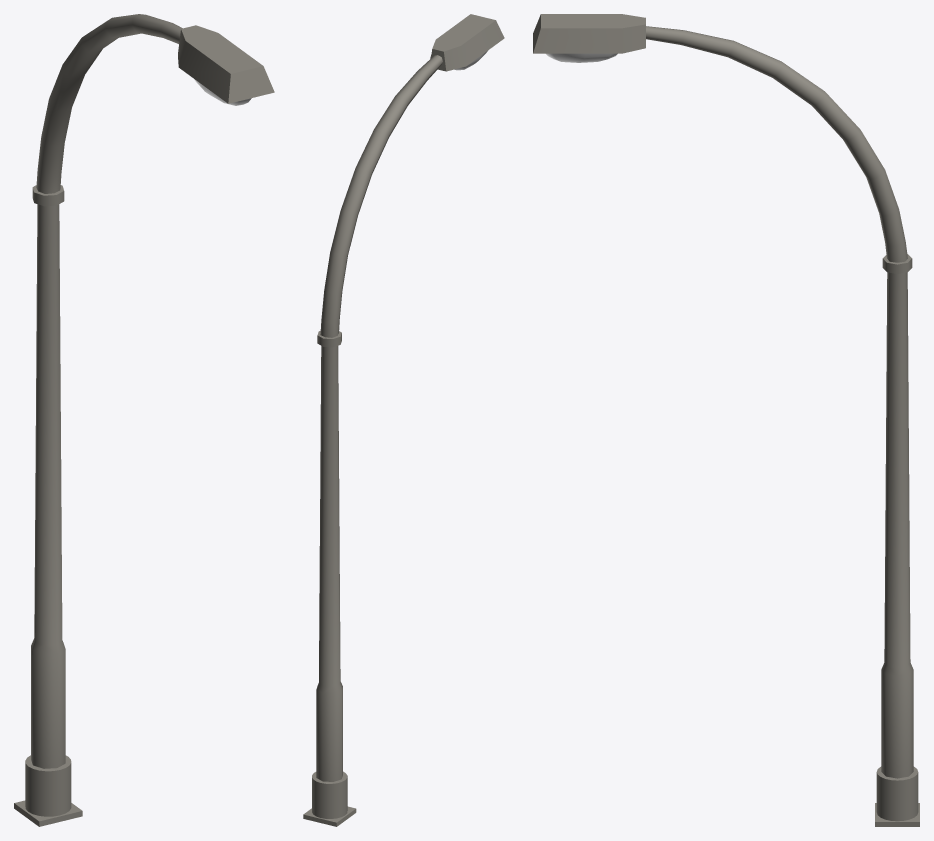
File: q-street-light-0lxf8dl1ju.glb
3 views of the same model, side by side, from view 1: azimuth 30°, elevation 25°; view 2: azimuth 150°, elevation 25°; view 3: azimuth 270°, elevation 25° (orthographic). The views are drawn at different scales.
Visible parts, largest first — view 1: StreetLights; view 2: StreetLights; view 3: StreetLights.
Part boxes in pixels (box(x1,y1,x2,y2)): StreetLights: box(14, 14, 274, 826); StreetLights: box(303, 14, 504, 826); StreetLights: box(533, 14, 919, 826).
Bounding box in the file's own units: 0.3641 × 6.64 × 2.93.
2 materials, 1 textured.
